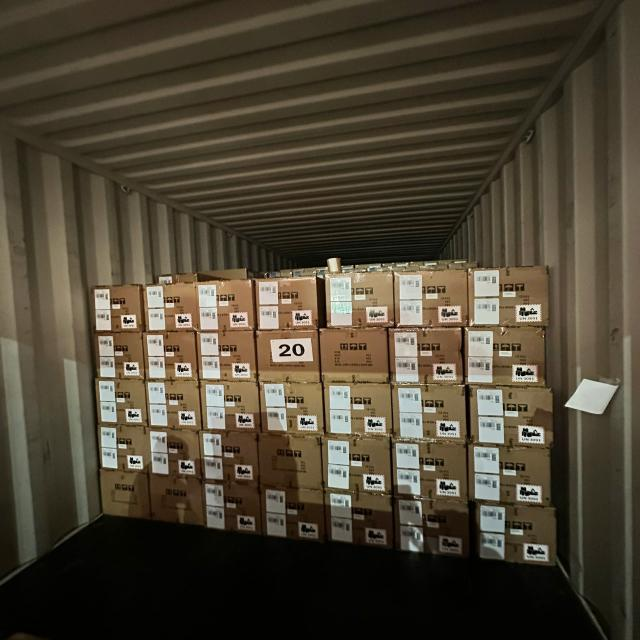Carton: (473, 506, 558, 569), (152, 433, 207, 529), (469, 388, 554, 450), (464, 326, 547, 387), (468, 447, 552, 507), (392, 442, 470, 504), (469, 266, 549, 326), (395, 498, 472, 556), (393, 386, 469, 444), (388, 328, 463, 386), (396, 270, 469, 328), (321, 441, 392, 499), (325, 492, 393, 550), (321, 329, 391, 385), (326, 270, 394, 327), (323, 382, 392, 438), (260, 487, 324, 543), (258, 383, 322, 438), (258, 437, 322, 492), (258, 276, 322, 330), (257, 332, 321, 385), (200, 430, 260, 484), (203, 481, 261, 535), (198, 383, 258, 435), (195, 331, 255, 383), (196, 278, 254, 331), (151, 428, 205, 481), (148, 382, 204, 433), (145, 332, 201, 382), (142, 282, 197, 332), (89, 284, 142, 332), (92, 381, 146, 428), (100, 472, 152, 520), (92, 334, 144, 381), (98, 424, 150, 471)
